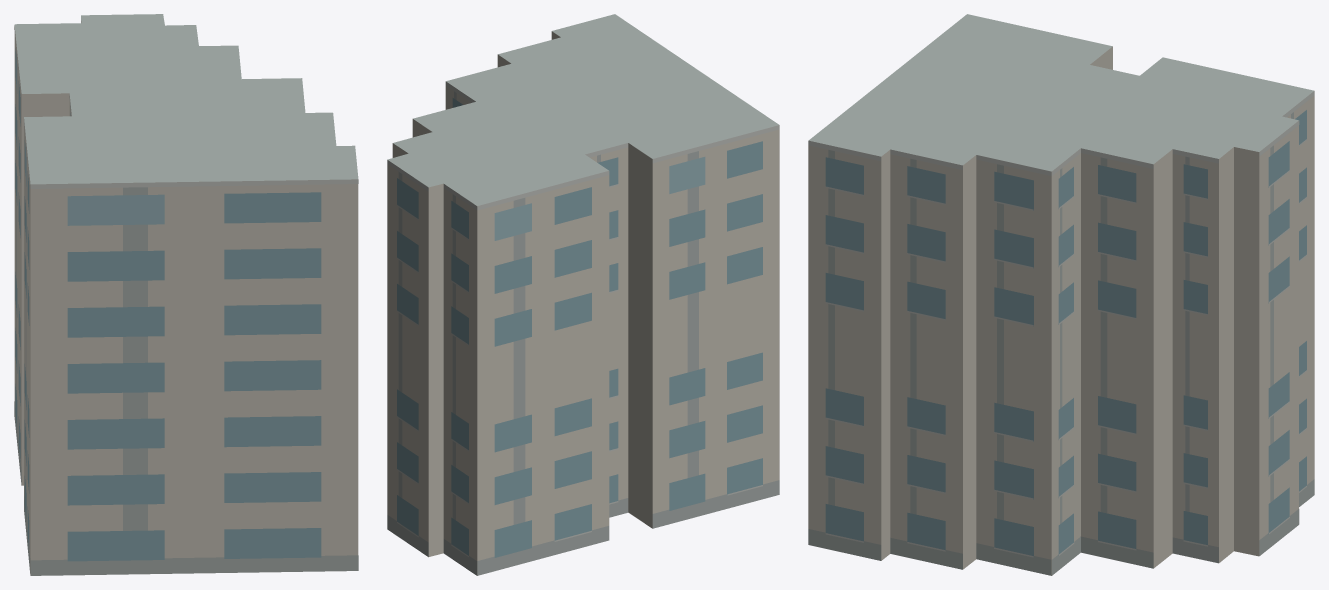
The model's file is survey-upis-32796917.glb.
The picture shows the model from 3 angles, left to right: view 1: azimuth 30°, elevation 25°; view 2: azimuth 150°, elevation 25°; view 3: azimuth 270°, elevation 25°; orthographic projection. The views are drawn at different scales.
Visible parts, largest first — view 1: survey-upis-32796917.tmp; view 2: survey-upis-32796917.tmp; view 3: survey-upis-32796917.tmp.
Boxes of the visible parts, x1,y1,x2,y2 form: survey-upis-32796917.tmp: (14,14,358,575); survey-upis-32796917.tmp: (387,14,779,575); survey-upis-32796917.tmp: (808,14,1314,575).
Size of the model in its own units: 17.31 by 20.7 by 23.49.
